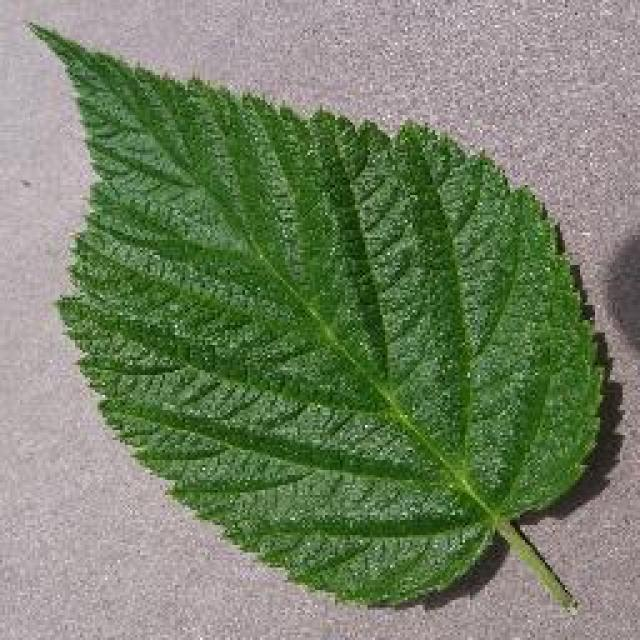Ras_healthy: (74, 75, 591, 541)
